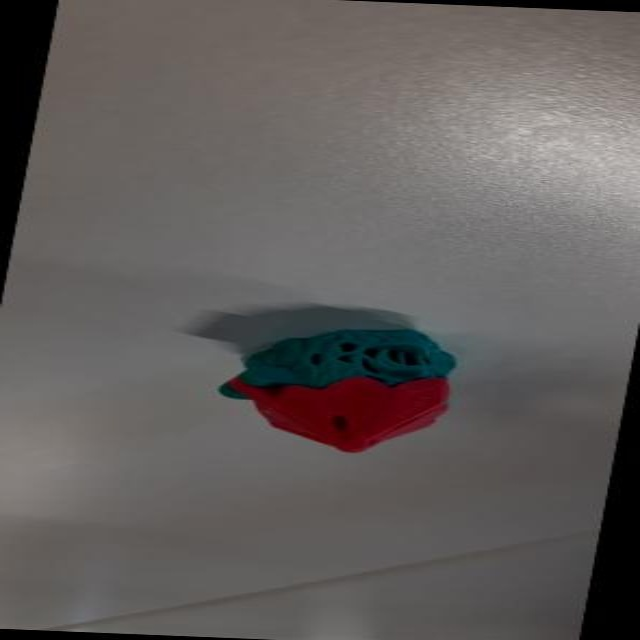House: (206, 317, 471, 459)
